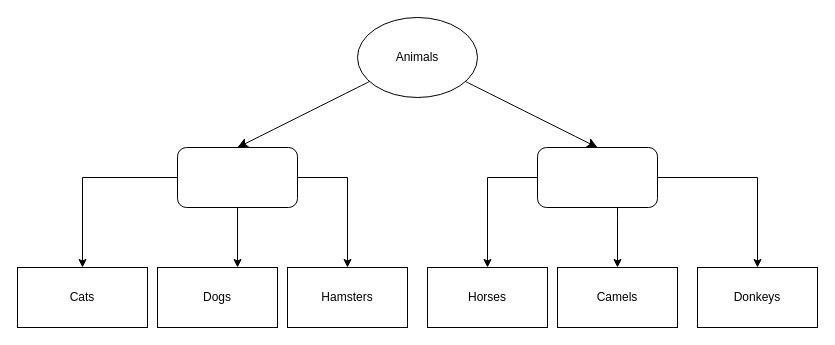
Image size: 835x345. Some labels were removed from this diagram. Here are the shapes that lost their labels. From the top down, the box of each, then its label:
(176, 146, 298, 208): Domestic animals
(536, 146, 658, 208): Pack animals
